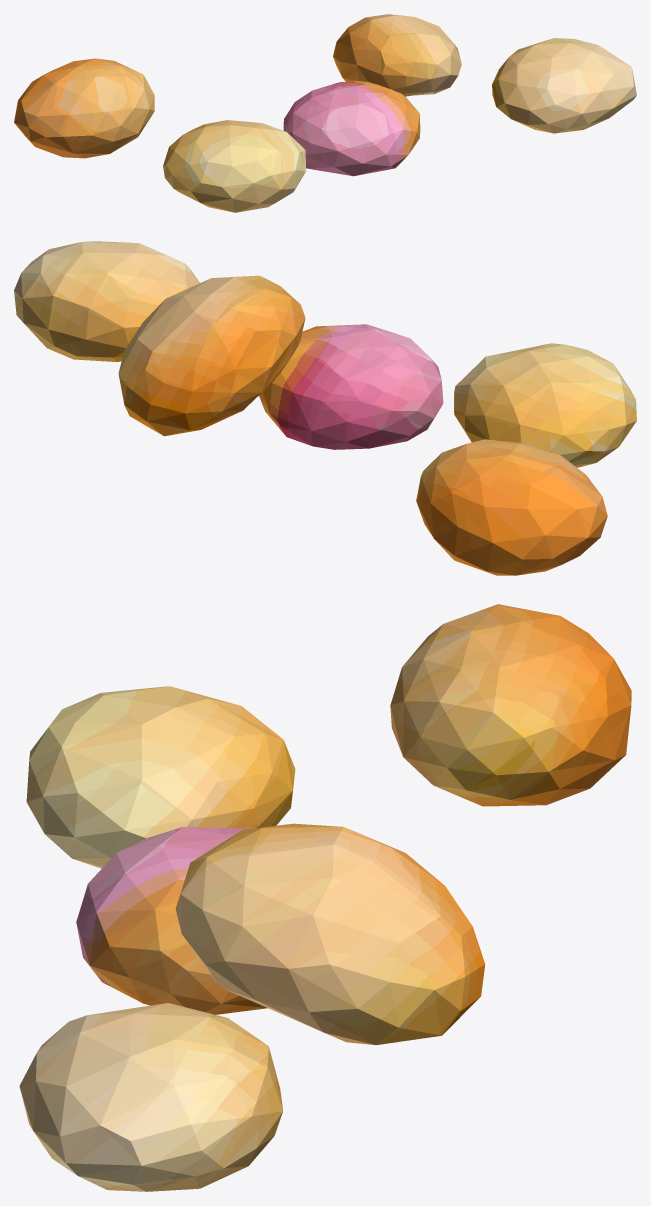
Rendered from MentosCapsF.fbx.
3 renders of one model, top to bottom at view 1: azimuth 30°, elevation 25°; view 2: azimuth 150°, elevation 25°; view 3: azimuth 270°, elevation 25°, orthographic. The views are drawn at different scales.
Visible parts, largest first — view 1: Mesh1.0; view 2: Mesh1.0; view 3: Mesh1.0.
Boxes of the visible parts, bbox=[...] form: Mesh1.0: bbox=[14, 14, 636, 212]; Mesh1.0: bbox=[14, 241, 636, 575]; Mesh1.0: bbox=[19, 604, 631, 1191].
Size of the model in its own units: 190 by 33.98 by 97.47.
Materials: 1 (1 with a texture image).
